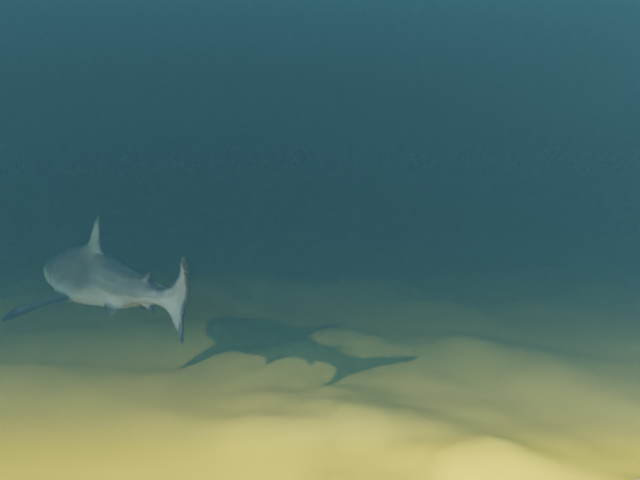Carribean Shark.001: (1, 214, 190, 344)
